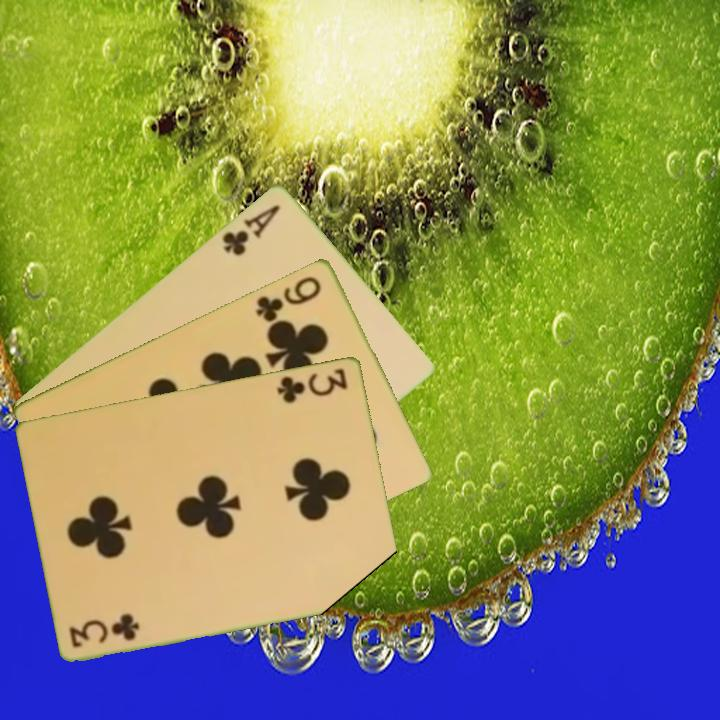3c: (273, 364, 351, 406), (66, 612, 143, 650)
9c: (252, 272, 324, 325)
Ac: (218, 200, 283, 258)
